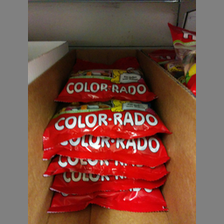candy: (61, 49, 151, 96)
